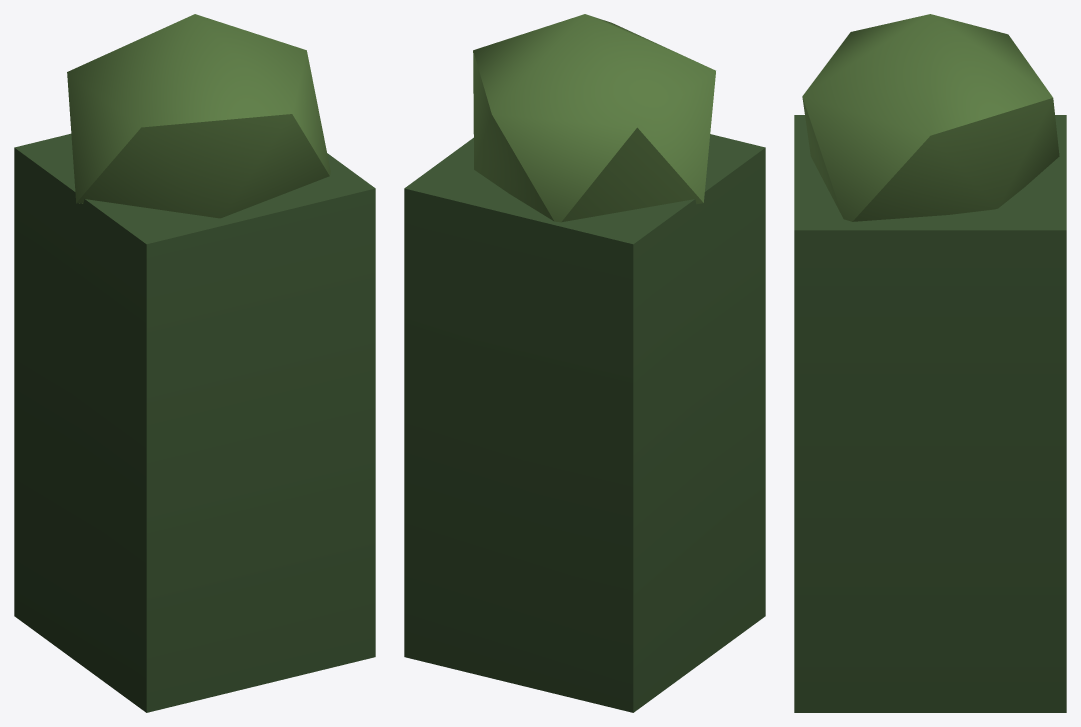
File: fence_hedge_post.glb
3 renders of one model, left to right at view 1: azimuth 30°, elevation 25°; view 2: azimuth 150°, elevation 25°; view 3: azimuth 270°, elevation 25°, orthographic. The views are drawn at different scales.
Parts seen in each view (by area): view 1: fence_hedge_post; view 2: fence_hedge_post; view 3: fence_hedge_post.
Boxes of the visible parts, x1,y1,x2,y2 form: fence_hedge_post: (14, 14, 375, 712); fence_hedge_post: (404, 14, 765, 712); fence_hedge_post: (794, 14, 1066, 712).
Size of the model in its own units: 0.4482 by 1.18 by 0.44.
